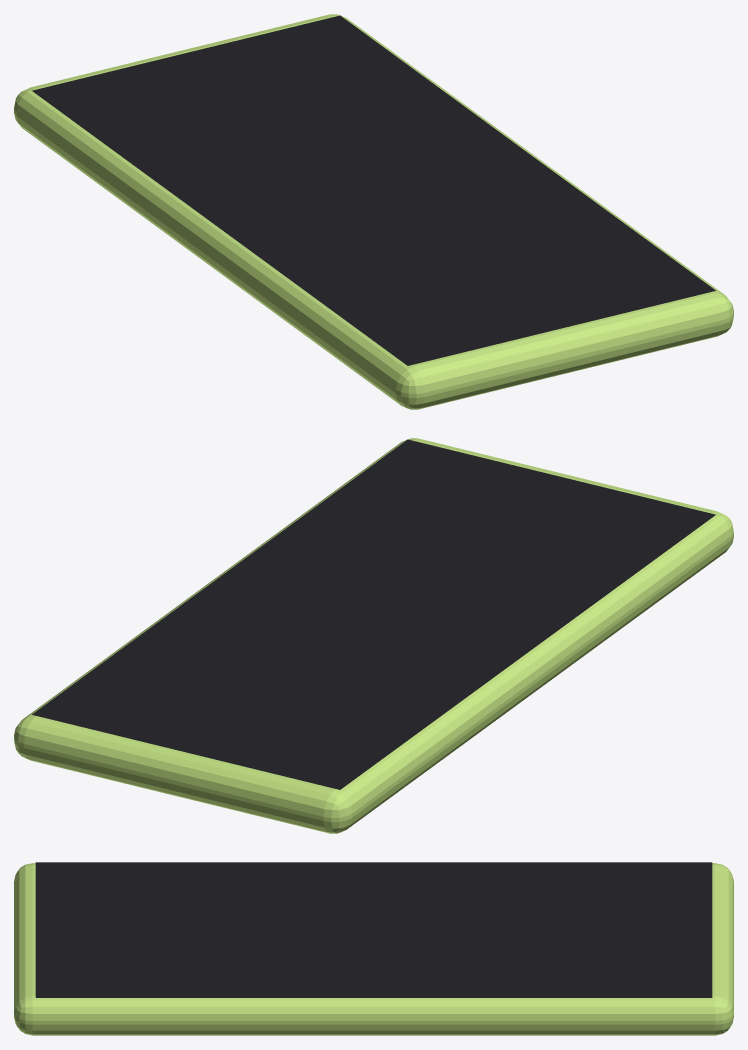
Rendered from Phone_973.glb.
3 renders of one model, top to bottom at view 1: azimuth 30°, elevation 25°; view 2: azimuth 150°, elevation 25°; view 3: azimuth 270°, elevation 25°, orthographic. The views are drawn at different scales.
Visible parts, largest first — view 1: Phone_Screen, Phone_Body; view 2: Phone_Screen, Phone_Body; view 3: Phone_Screen, Phone_Body.
Part boxes in pixels (x1=…): Phone_Screen: x1=32, y1=15, x2=715, y2=365; Phone_Body: x1=14, y1=14, x2=733, y2=409; Phone_Screen: x1=32, y1=439, x2=715, y2=789; Phone_Body: x1=14, y1=438, x2=733, y2=833; Phone_Screen: x1=35, y1=862, x2=712, y2=997; Phone_Body: x1=14, y1=863, x2=733, y2=1035.
Size of the model in its own units: 0.0735 by 0.0088 by 0.1519.
